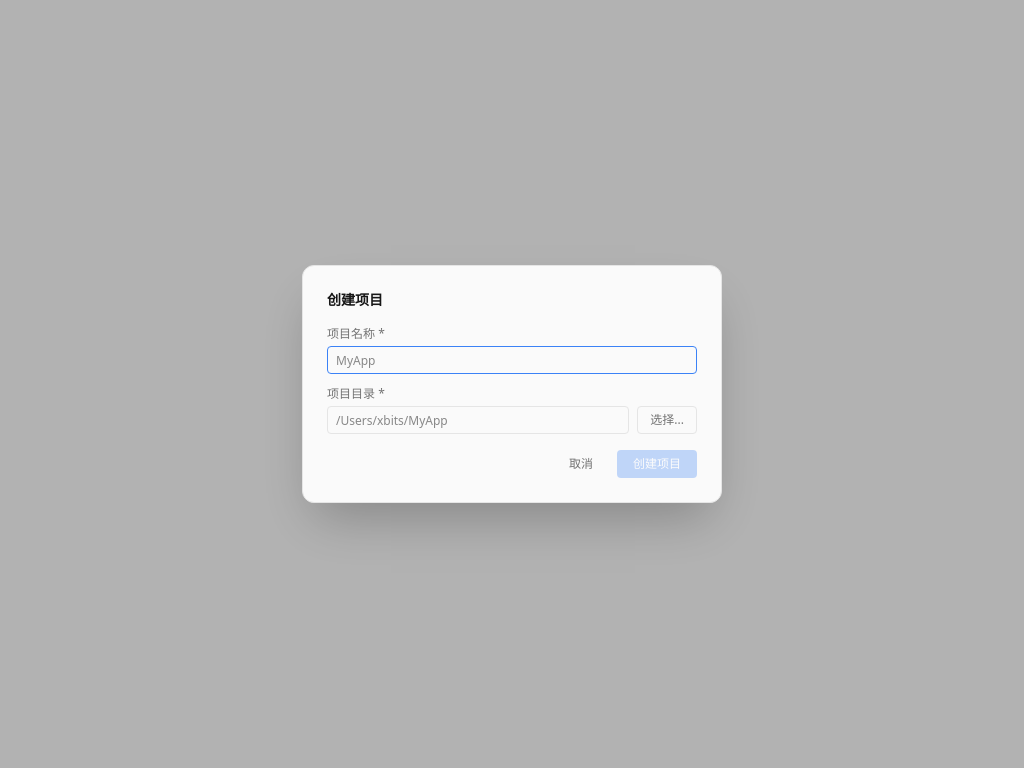
Test: ProjectCreateDialog › shows error message when API fails
In the field with placeholder "MyApp": coordinates (512, 360) [327,346,697,374], type "DupProject"
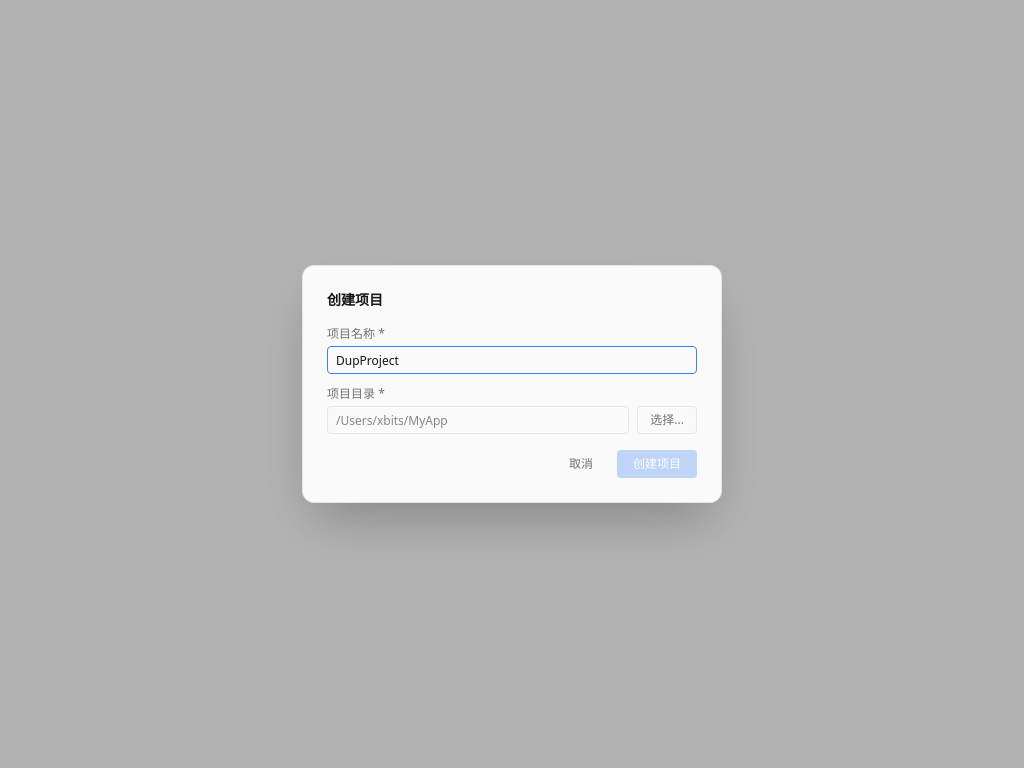
In the field with placeholder "/Users/xbits/MyApp": coordinates (478, 420) [327,406,629,434], type "/tmp/existing"
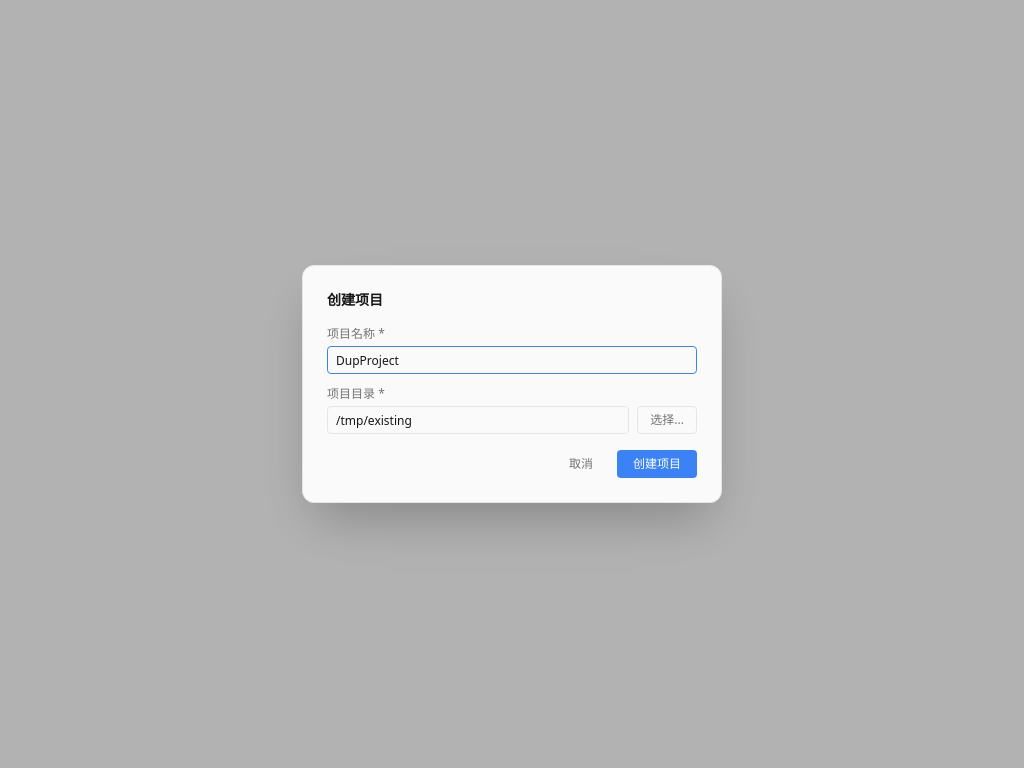
Click the button "创建项目": coordinates (657, 464) [617,450,697,478]
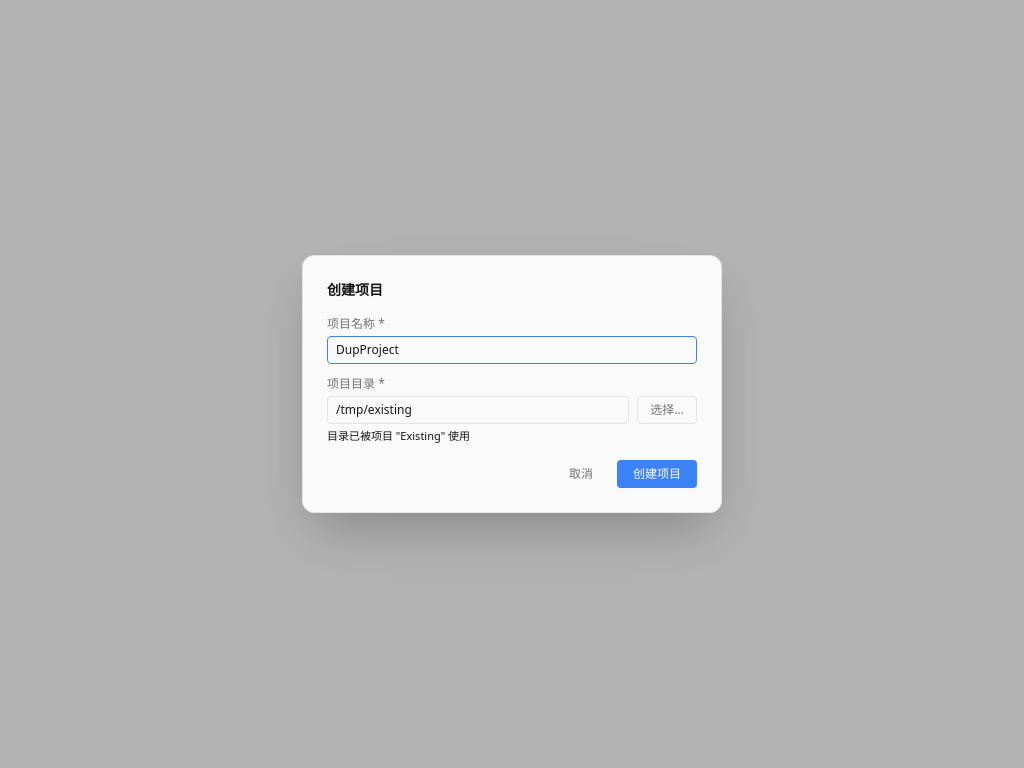
Result: the text "目录已被项目 \"Existing\" 使用" is shown at [327,428,470,443]
